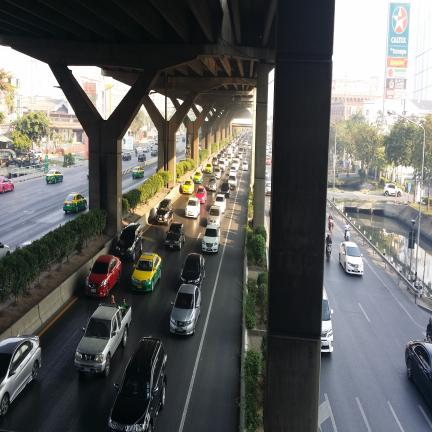car: (109, 337, 167, 432), (170, 284, 201, 335), (85, 255, 122, 297), (116, 223, 142, 261), (180, 253, 205, 287), (339, 241, 363, 275), (165, 223, 185, 250), (202, 224, 220, 253), (155, 199, 174, 226), (185, 197, 200, 218), (207, 206, 221, 226), (383, 183, 403, 197), (195, 186, 207, 203), (229, 174, 229, 175)
human: (426, 317, 432, 341), (120, 298, 127, 310), (325, 233, 332, 245), (110, 295, 116, 305)
motorbike: (326, 243, 331, 261), (329, 220, 333, 233)
pickup: (75, 303, 131, 376)
taxi: (131, 253, 161, 291), (63, 192, 87, 213), (0, 176, 14, 194), (45, 170, 63, 184), (182, 179, 194, 194), (132, 166, 144, 178), (193, 170, 203, 184), (205, 162, 213, 174)
